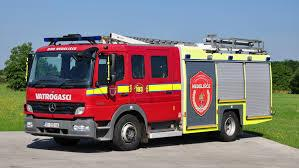Fire-engine: (24, 25, 278, 142)
